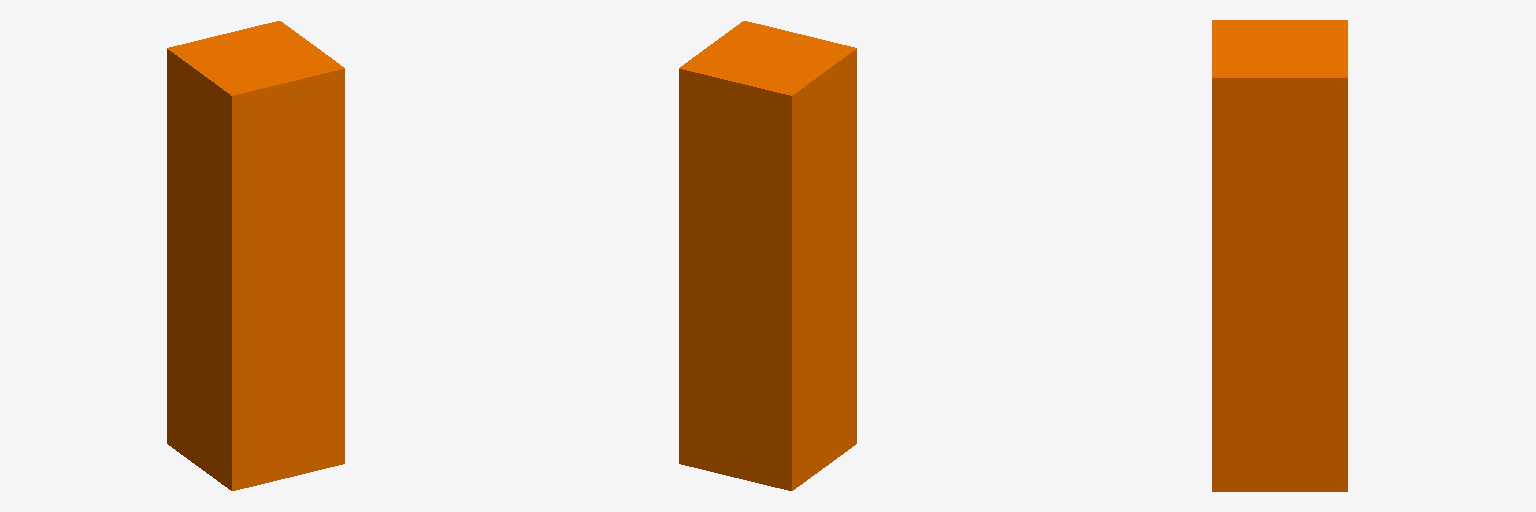
robot.urdf — block_2:
<?xml version="1.0"?>
<robot name="block_2">
  <link name="block_2_base_link">
    <contact>
      <lateral_friction value="0.4"/>
      <spinning_friction value="10.0"/>
    </contact>
    <inertial>
      <origin rpy="0 0 0" xyz="0 0 0"/>
      <mass value="1"/>
      <inertia ixx="1" ixy="0" ixz="0" iyy="1" iyz="0" izz="1"/>
    </inertial>
    <visual>
      <origin rpy="0 0 0" xyz="0.0 0.0 0.0"/>
      <geometry>
        <box size="0.03 0.03 0.1"/>
      </geometry>
      <material name="blockmat">
        <color rgba="1.0 0.5 0.0 1"/>
      </material>
    </visual>
    <collision>
      <origin rpy="0 0 0" xyz="0.0 0.0 0.0"/>
      <geometry>
        <box size="0.03 0.03 0.1"/>
      </geometry>
    </collision>
  </link>
</robot>

--- Facts derived from the render (not from the file) ---
3 views of the same robot in one strip: view 1: azimuth 30°, elevation 25°; view 2: azimuth 150°, elevation 25°; view 3: azimuth 270°, elevation 25° (orthographic).
Model block_2 with 1 links and 0 joints (none), rooted at block_2_base_link, posed all joints at 0.
Visible links, largest first — view 1: block_2_base_link; view 2: block_2_base_link; view 3: block_2_base_link.
Boxes of the visible links, box(x1,y1,x2,y2) form: block_2_base_link: box(167, 21, 344, 490); block_2_base_link: box(679, 21, 856, 490); block_2_base_link: box(1212, 20, 1347, 491).
Bounding box of the posed robot: 0.03 × 0.03 × 0.1 m (x, y, z).
Geometry: primitives only (box / cylinder / sphere), no mesh files.
